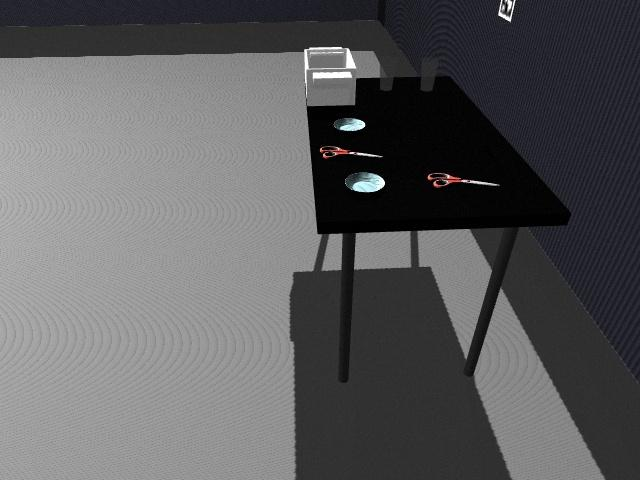cup: (419, 58, 439, 94), (379, 72, 394, 92)
plate: (344, 171, 387, 193), (333, 117, 367, 133)
scissors: (427, 170, 498, 188), (320, 146, 381, 160)
